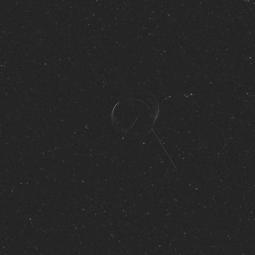double_start: (104, 74, 168, 141)
